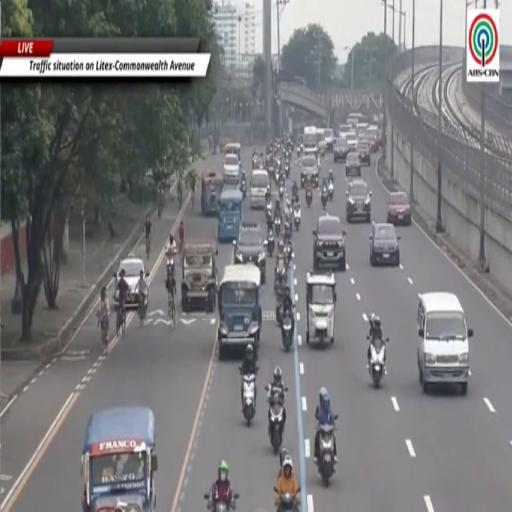car: (234, 221, 266, 283), (114, 254, 148, 309), (313, 215, 345, 270), (370, 223, 399, 266), (346, 180, 371, 222), (387, 191, 411, 225), (300, 155, 318, 187), (223, 153, 240, 184), (333, 137, 348, 163), (346, 151, 361, 177), (358, 140, 371, 166), (367, 125, 378, 152), (345, 132, 358, 150), (324, 128, 333, 151), (339, 124, 351, 136)
jeepney: (81, 407, 157, 511), (218, 265, 261, 359), (182, 243, 217, 312), (306, 272, 336, 343), (218, 188, 243, 242), (201, 170, 223, 215), (224, 142, 241, 166)
motorcycle: (317, 425, 335, 486), (268, 394, 284, 454), (369, 339, 388, 388), (242, 374, 255, 426), (204, 493, 239, 511), (274, 487, 300, 511), (282, 311, 293, 351), (276, 277, 285, 325), (283, 217, 291, 242), (284, 243, 292, 267), (267, 230, 274, 257), (167, 258, 175, 277), (321, 189, 328, 210), (294, 206, 300, 230), (274, 217, 281, 236), (240, 179, 246, 198), (266, 200, 273, 216), (306, 188, 312, 206), (284, 160, 290, 178), (328, 182, 333, 201), (252, 155, 258, 169), (279, 184, 284, 199), (274, 168, 279, 182), (297, 144, 302, 156), (268, 164, 274, 174), (259, 162, 264, 169)
truck: (303, 126, 318, 155)
